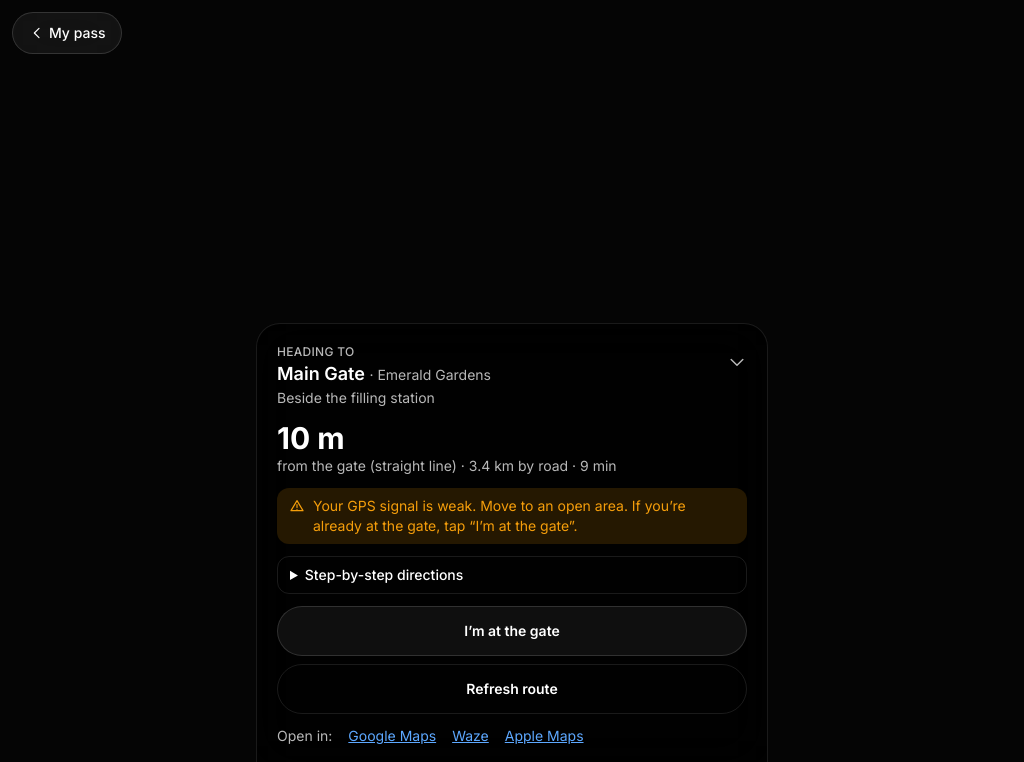
NavigationScreen (full-screen map) › will not decide on a weak GPS fix, and offers a manual "I'm at the gate"
Check: the text "GPS signal is weak" is shown, box [313, 497, 686, 534]
Click the button "I’m at the gate".
click(512, 631)  # box [277, 606, 747, 656]
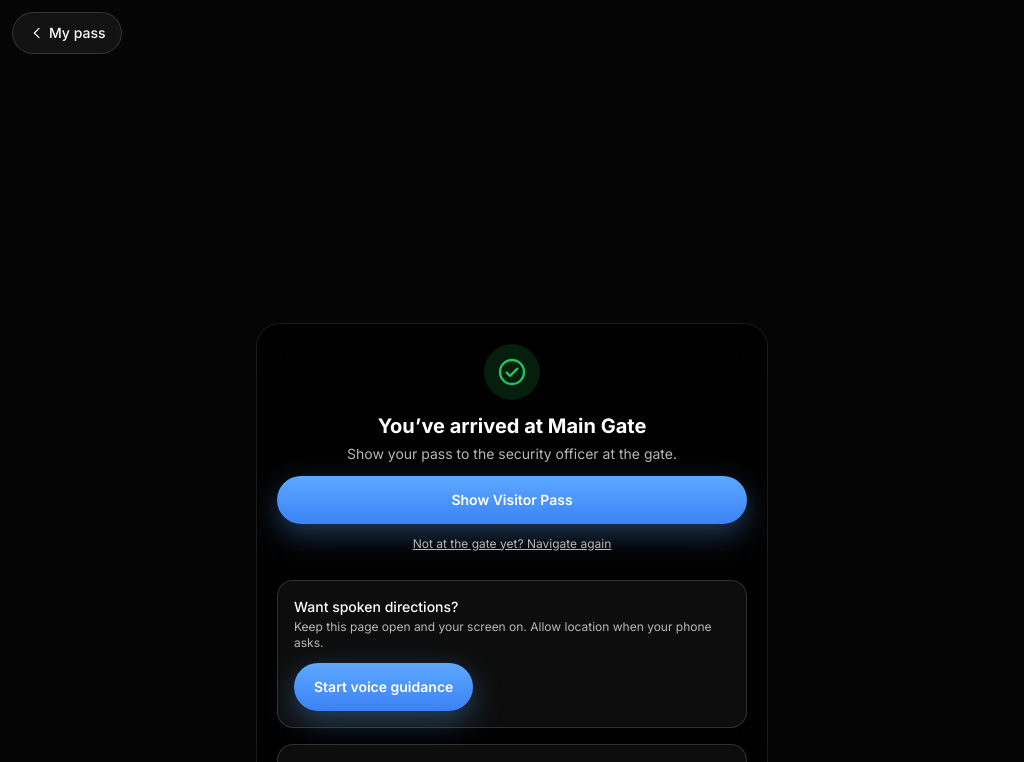
Check: the text "You’ve arrived at Main Gate" is shown, box [378, 414, 646, 438]
